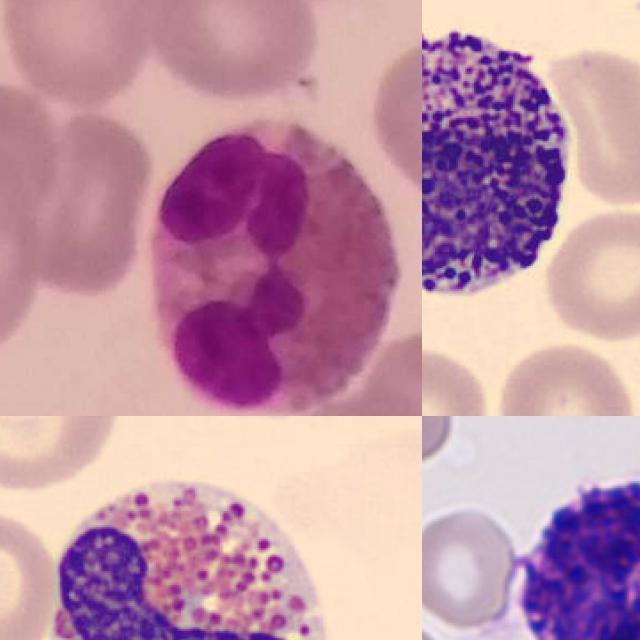Basophil: (422, 3, 584, 310), (498, 457, 640, 640)
Eosinophil: (152, 116, 401, 416), (33, 463, 337, 640)
RBC: (545, 42, 640, 207), (422, 498, 526, 630), (541, 204, 640, 341), (491, 338, 639, 416), (0, 416, 123, 496), (0, 507, 62, 640), (422, 342, 495, 416)
